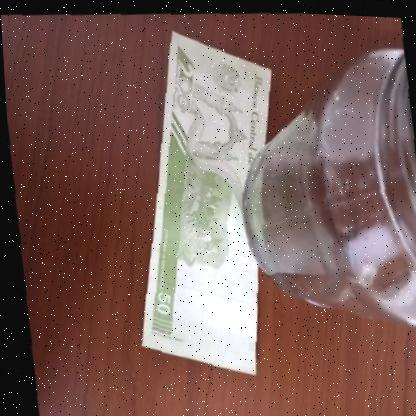fifty-back-vef: (99, 17, 308, 384)
